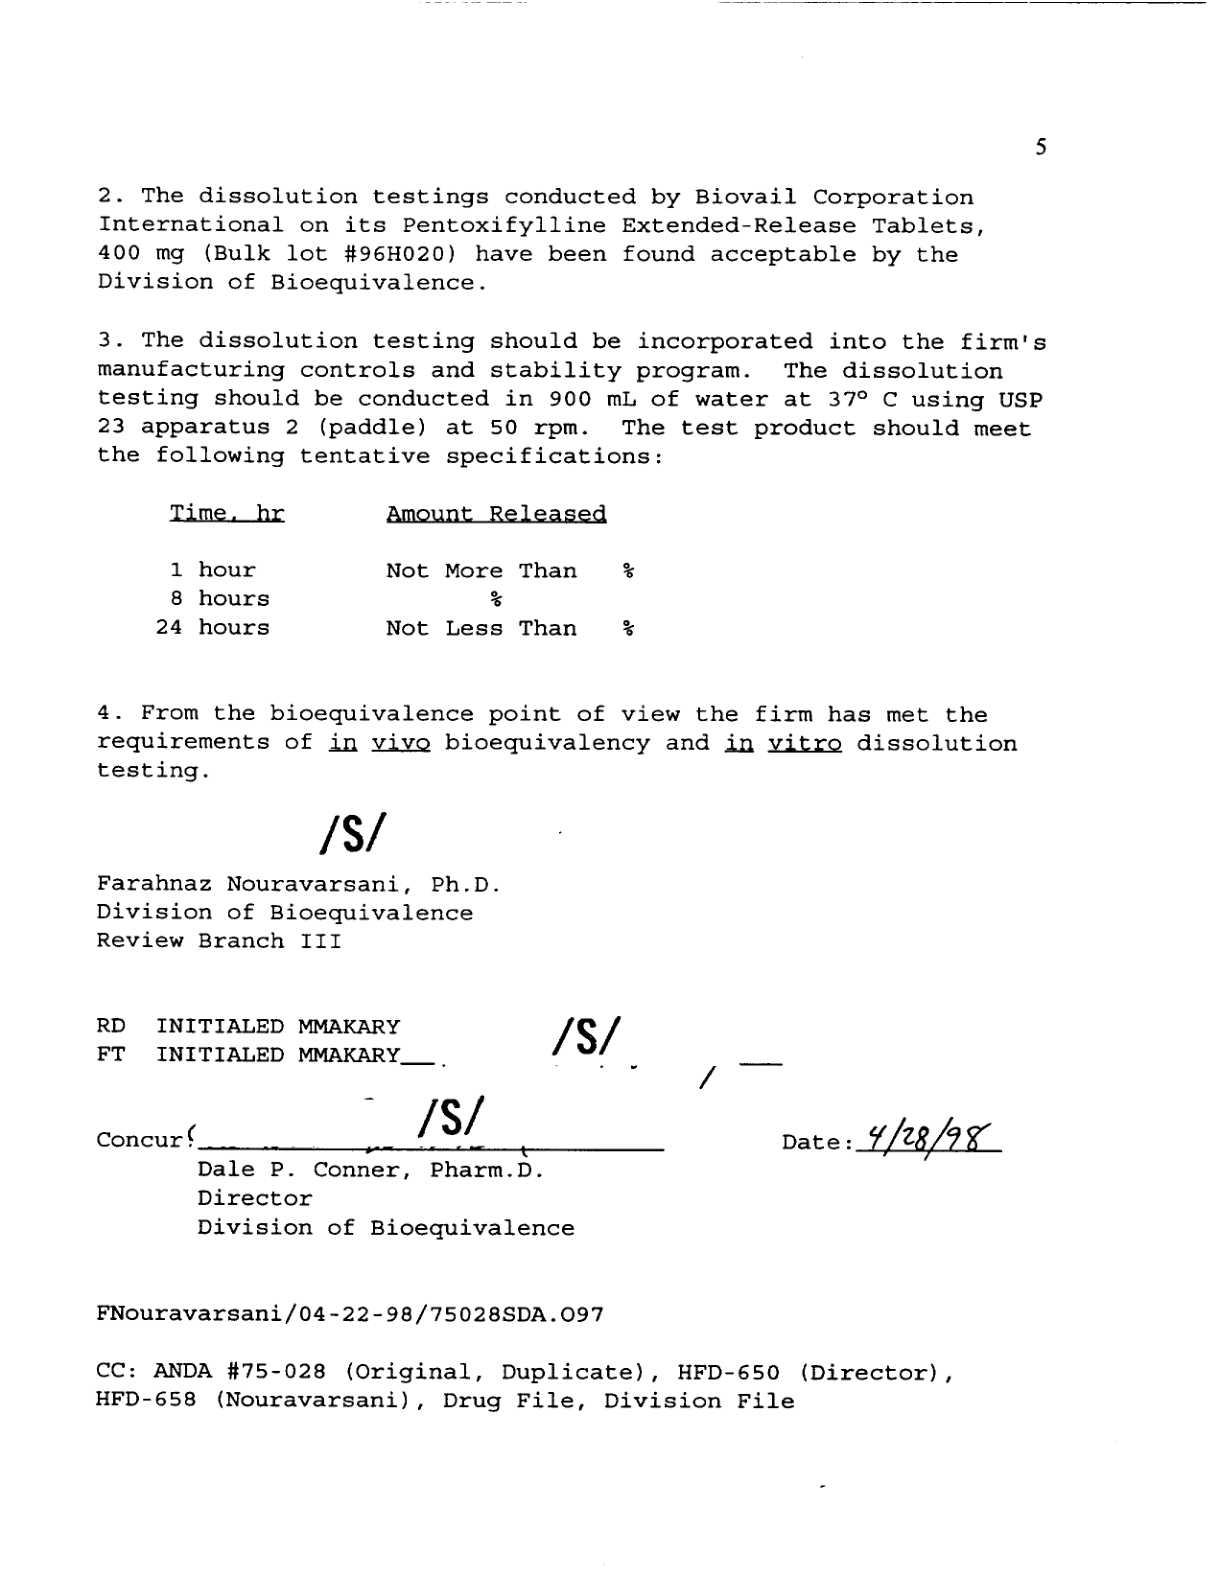nolines: (155, 499, 640, 643)
